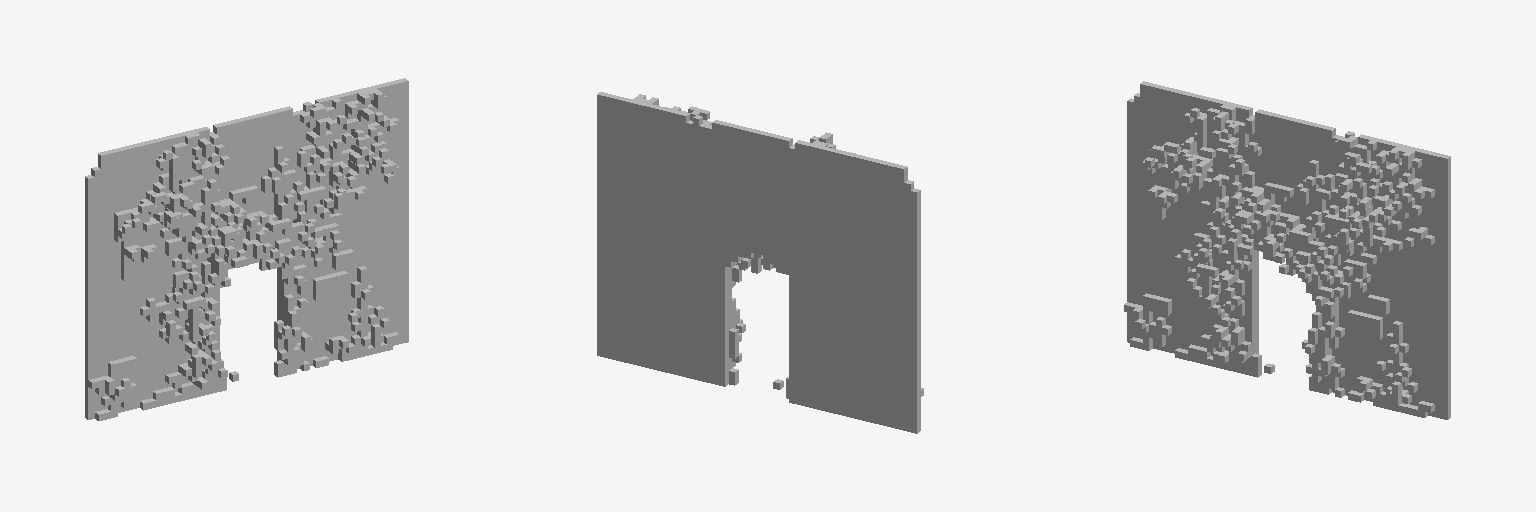
The model's file is Wall_GardenDoor_01.obj.
3 views of the same model, side by side, from view 1: azimuth 30°, elevation 25°; view 2: azimuth 150°, elevation 25°; view 3: azimuth 330°, elevation 25° (orthographic).
Visible parts, largest first — view 1: Wall_GardenDoor_01; view 2: Wall_GardenDoor_01; view 3: Wall_GardenDoor_01.
Part boxes in pixels (left/top/right/bottom): Wall_GardenDoor_01: left=85, top=78, right=408, bottom=420; Wall_GardenDoor_01: left=597, top=92, right=923, bottom=433; Wall_GardenDoor_01: left=1124, top=81, right=1450, bottom=419.
Size of the model in its own units: 5 by 3.9 by 0.6.